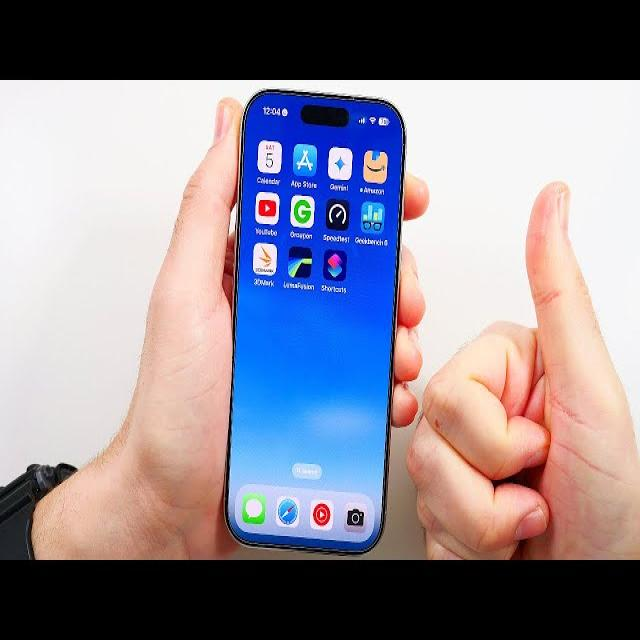mobile_phone: (233, 80, 396, 541)
